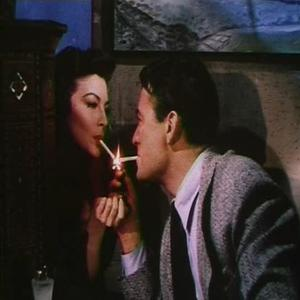cigarette: (99, 136, 118, 165), (118, 155, 141, 168)
